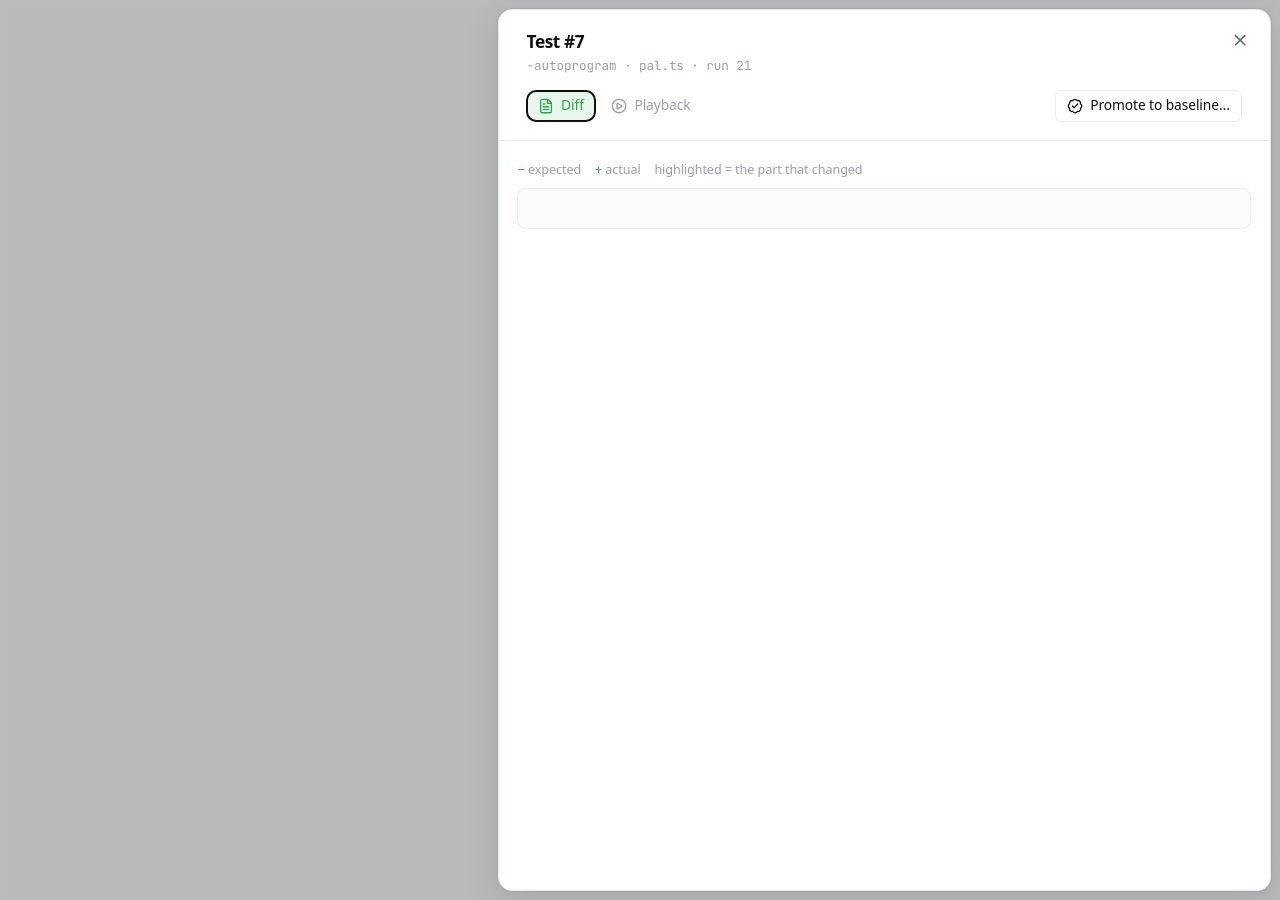
Test: DiffDrawer › offers promotion to admins only, and confirms before posting it
Click the button "Promote to baseline…" at (1148, 106), box 1055,90 -> 1242,122
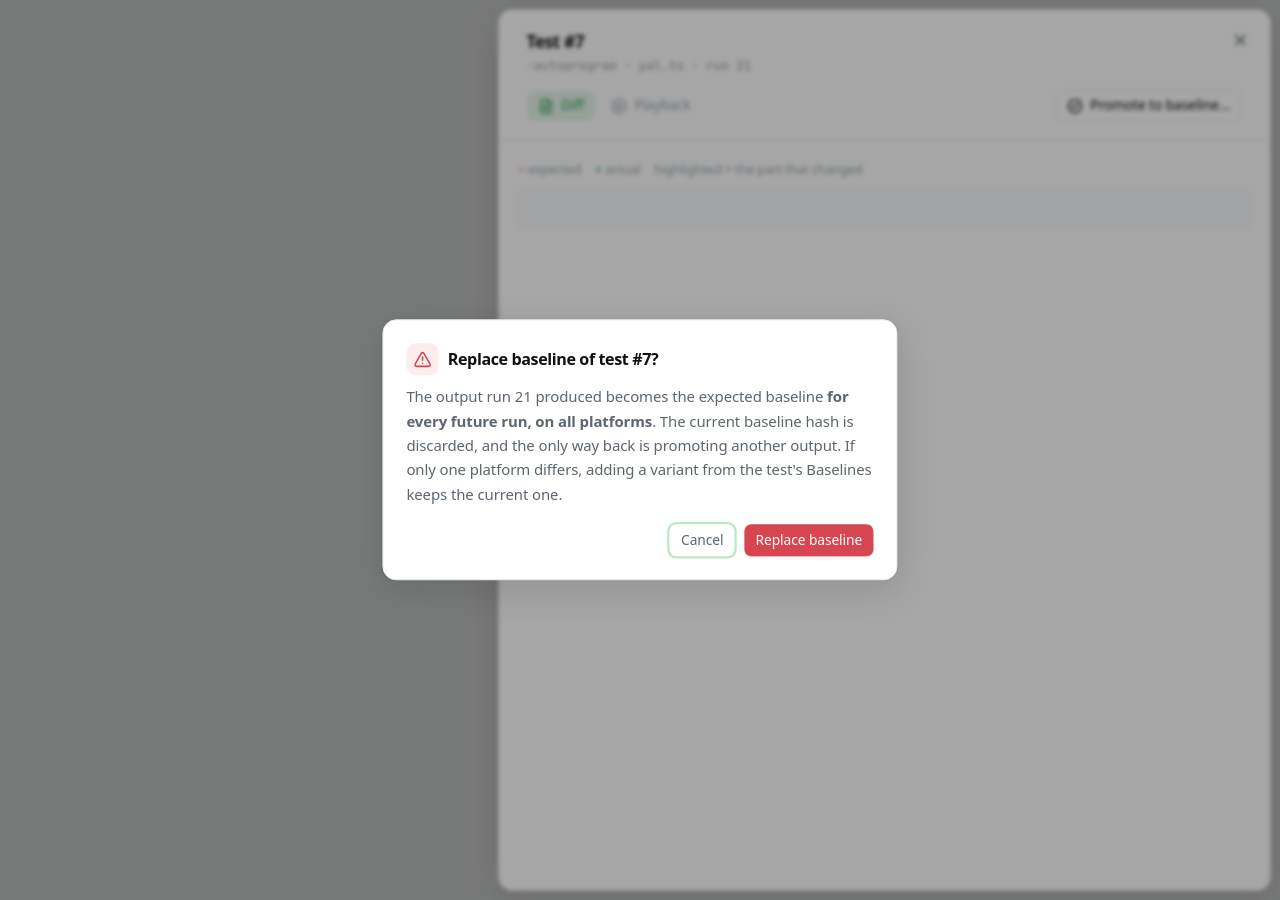
Click the button "Replace baseline" at (809, 541), box 744,524 -> 874,557
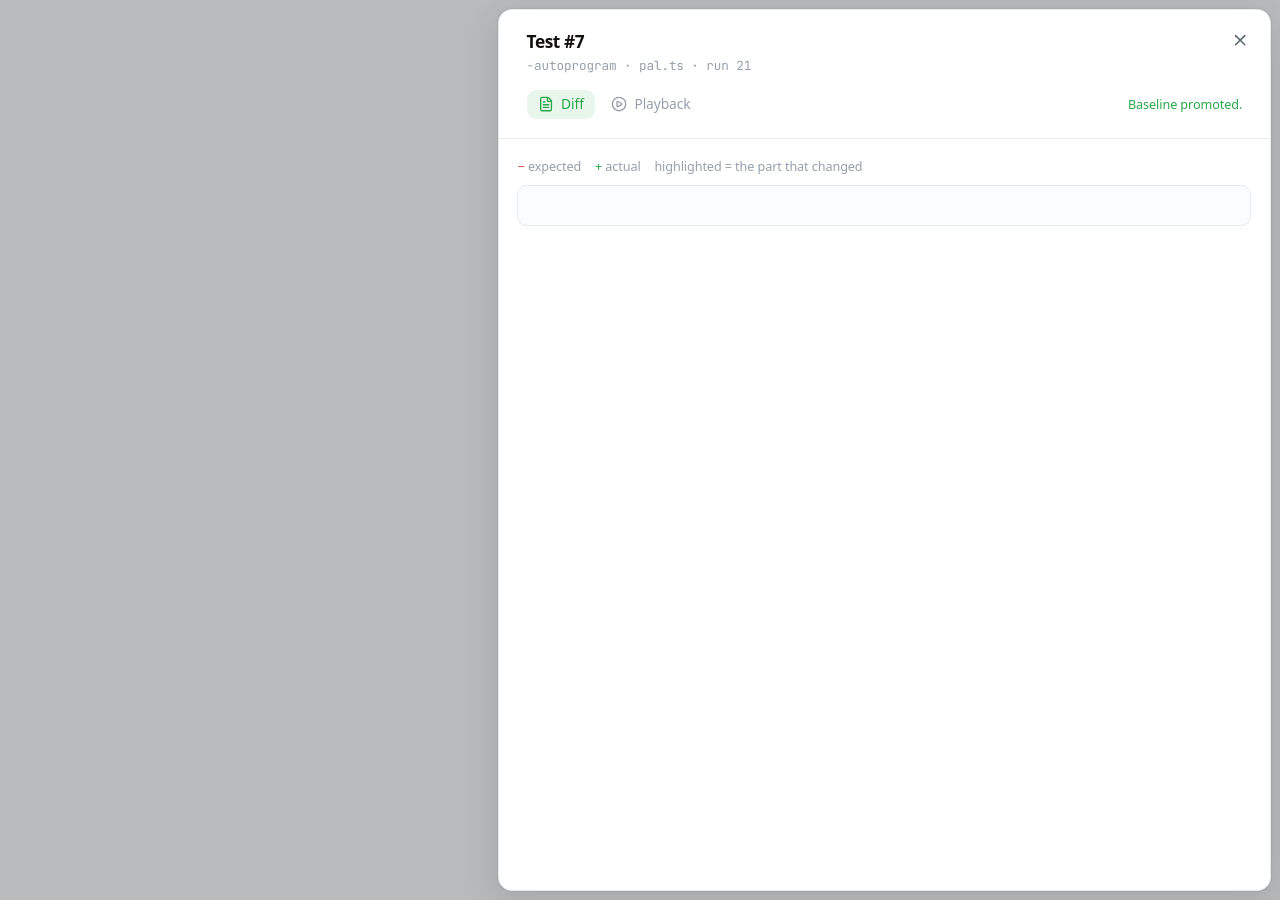
Expected: the text "Baseline promoted." is shown, 1128,95 -> 1242,114
